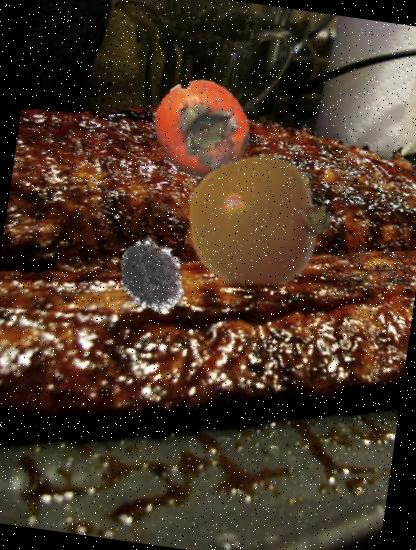Kaki: (146, 72, 258, 184)
Physalis: (178, 137, 344, 304)
Rambutan: (112, 236, 193, 317)
